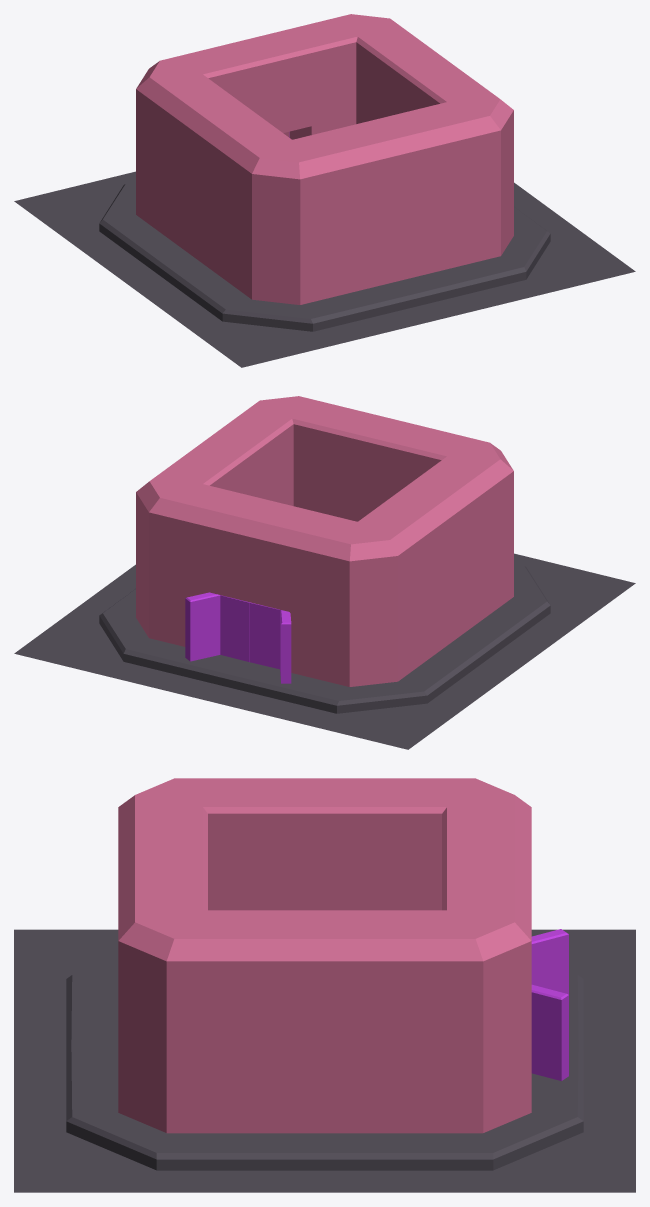
File: Block.dae
3 views of the same model, one above another, from view 1: azimuth 30°, elevation 25°; view 2: azimuth 150°, elevation 25°; view 3: azimuth 270°, elevation 25° (orthographic). The views are drawn at different scales.
Parts seen in each view (by area): view 1: Building, Ground; view 2: Building, Ground, DoorsClosed, Doors; view 3: Building, Ground, Doors.
Boxes of the visible parts, bbox=[...] form: Building: bbox=[136, 14, 513, 304]; Ground: bbox=[14, 171, 635, 367]; Building: bbox=[136, 396, 513, 686]; Ground: bbox=[14, 553, 635, 749]; DoorsClosed: bbox=[220, 595, 279, 669]; Doors: bbox=[185, 592, 291, 683]; Building: bbox=[118, 778, 531, 1133]; Ground: bbox=[14, 929, 635, 1192]; Doors: bbox=[531, 929, 568, 1080].
Bounding box in the file's own units: 3.01 × 3.01 × 1.08.
